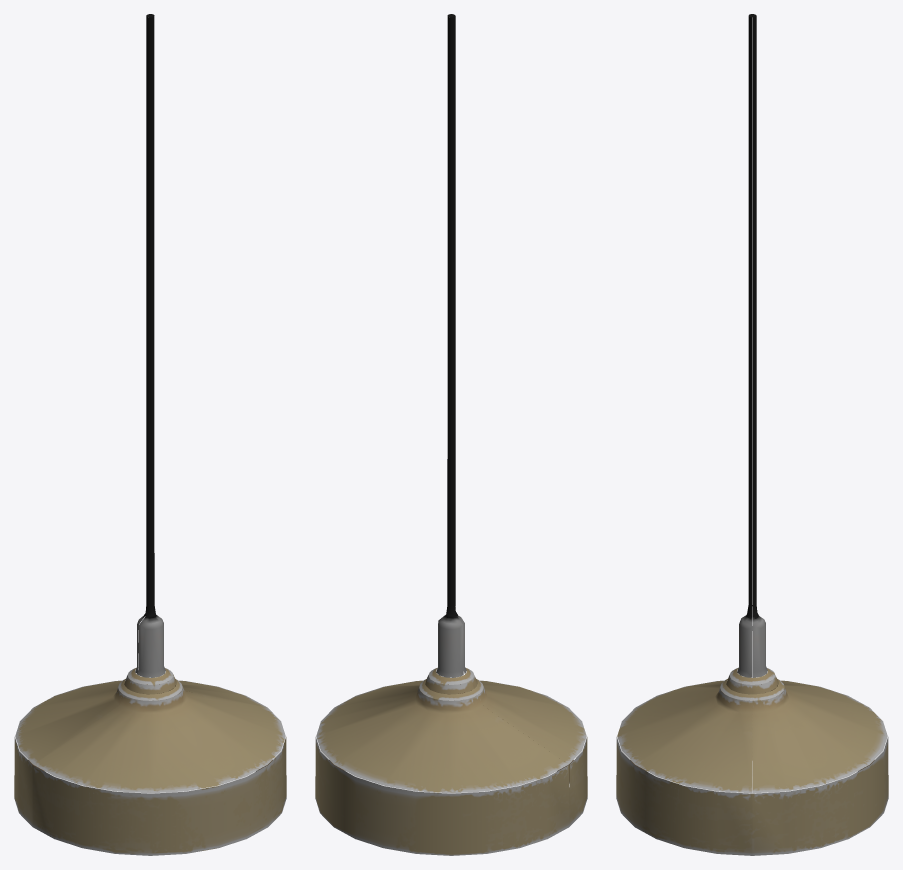
File: ceiling-light.glb
The picture shows the model from 3 angles, left to right: view 1: azimuth 30°, elevation 25°; view 2: azimuth 150°, elevation 25°; view 3: azimuth 270°, elevation 25°; orthographic projection.
Visible parts, largest first — view 1: BarCounterLamp_BarCounterLamp_MTL_0; view 2: BarCounterLamp_BarCounterLamp_MTL_0; view 3: BarCounterLamp_BarCounterLamp_MTL_0.
Boxes of the visible parts, x1,y1,x2,y2 form: BarCounterLamp_BarCounterLamp_MTL_0: [14, 14, 286, 855]; BarCounterLamp_BarCounterLamp_MTL_0: [315, 14, 587, 855]; BarCounterLamp_BarCounterLamp_MTL_0: [616, 14, 888, 855].
Size of the model in its own units: 0.08 by 0.2622 by 0.08.
Materials: 2 (2 with a texture image).
